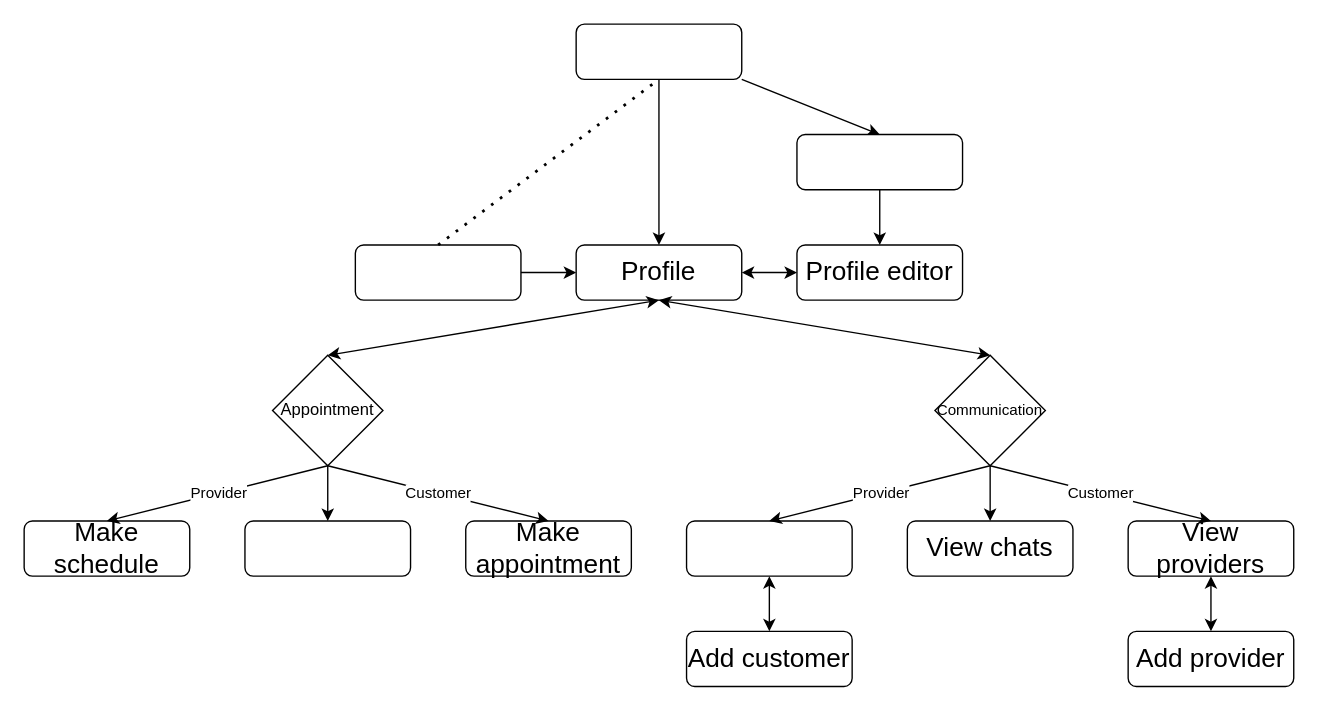
Some shapes in this 1318 by 711 pixel diagram are drawn without their labels. The box of each missing label's shape, as (x1, y1, x2, y2) in pixels:
Log in: (575, 23, 742, 79)
Profile pick: (354, 244, 521, 300)
Sign in: (796, 133, 963, 190)
View appointments: (244, 520, 411, 576)
View customers: (685, 520, 852, 576)
